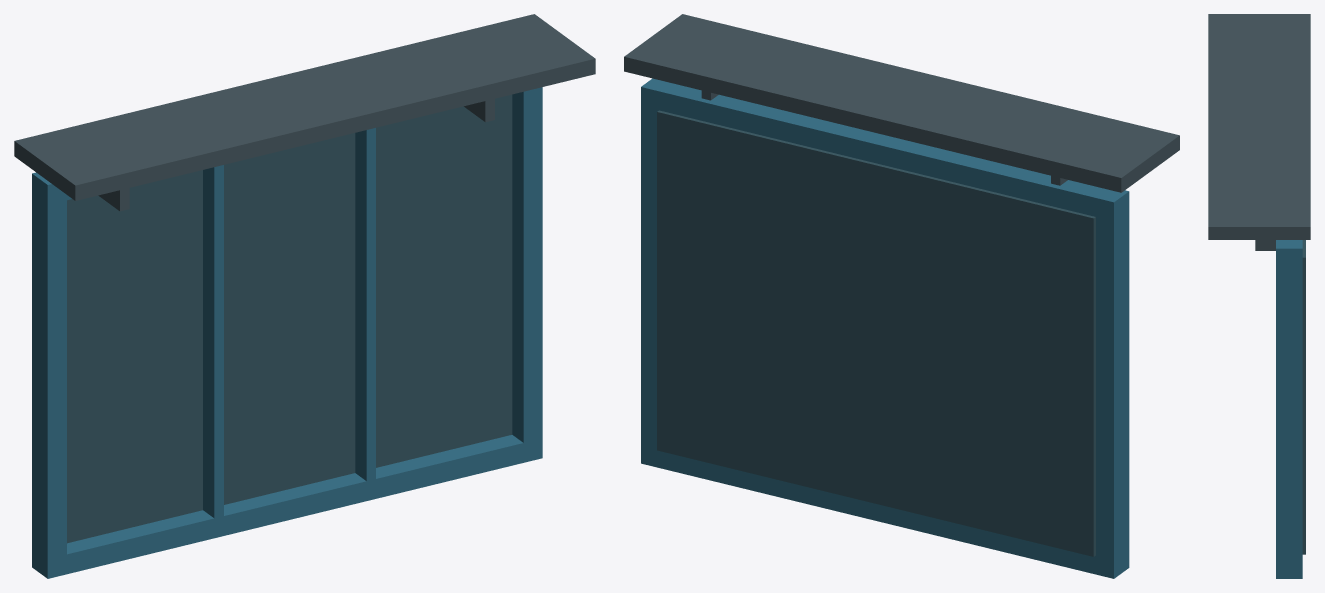
Rendered from window_27.glb.
3 renders of one model, left to right at view 1: azimuth 30°, elevation 25°; view 2: azimuth 150°, elevation 25°; view 3: azimuth 270°, elevation 25°, orthographic. The views are drawn at different scales.
Visible parts, largest first — view 1: window_27; view 2: window_27; view 3: window_27.
Boxes of the visible parts, box(x1,y1,x2,y2) form: window_27: box(14, 14, 595, 578); window_27: box(624, 14, 1179, 578); window_27: box(1208, 14, 1310, 578).
Bounding box in the file's own units: 2.46 × 1.93 × 0.5.
